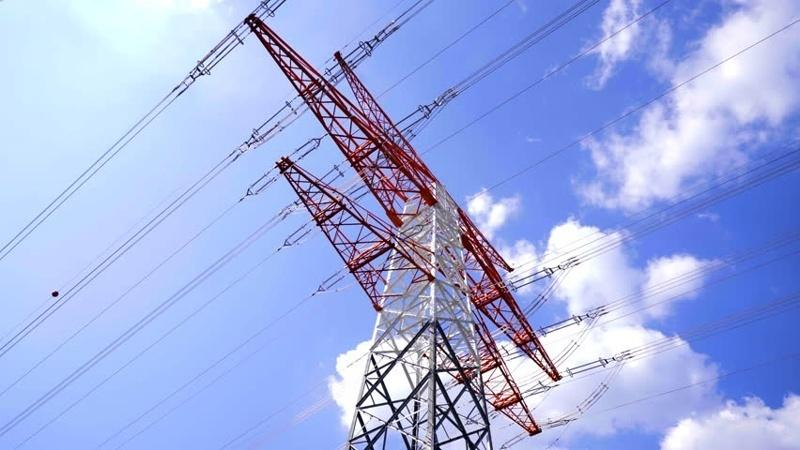power_tower: (209, 12, 588, 445)
